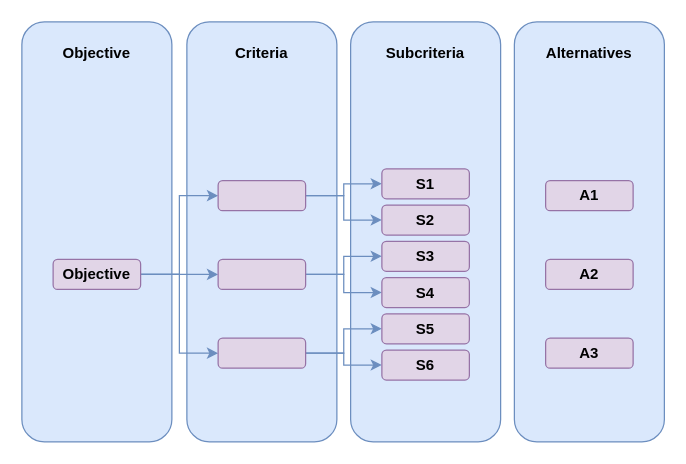
Some shapes in this 686 by 464 pixel diagram are drawn without their labels. The shapes that lost their labels are listed below. From the top down, each one's box as (x1, y1, x2, y2) in pixels, then its label:
(217, 179, 306, 211): C1
(217, 258, 306, 289): C2
(217, 337, 306, 368): C3
